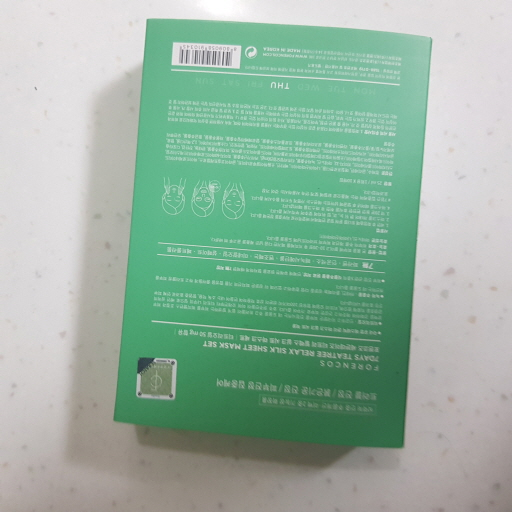Paper_0: (110, 11, 437, 458)
